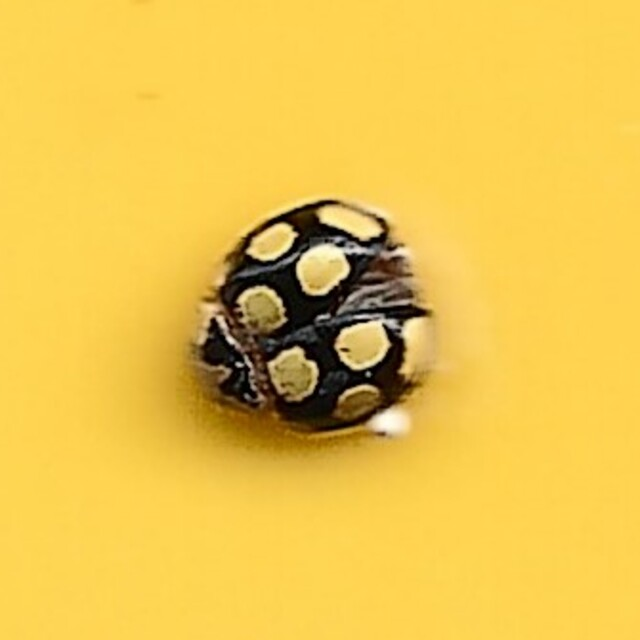Coleoptera: (191, 195, 449, 445)
